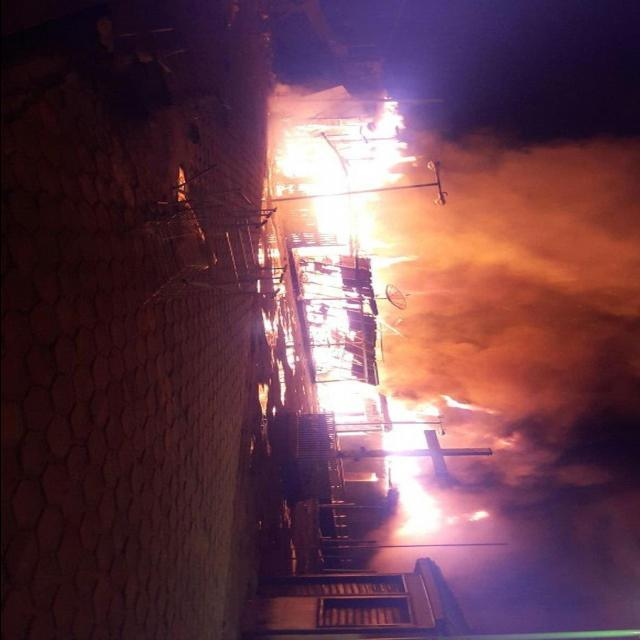Fire: (288, 106, 430, 388), (319, 386, 477, 530)
